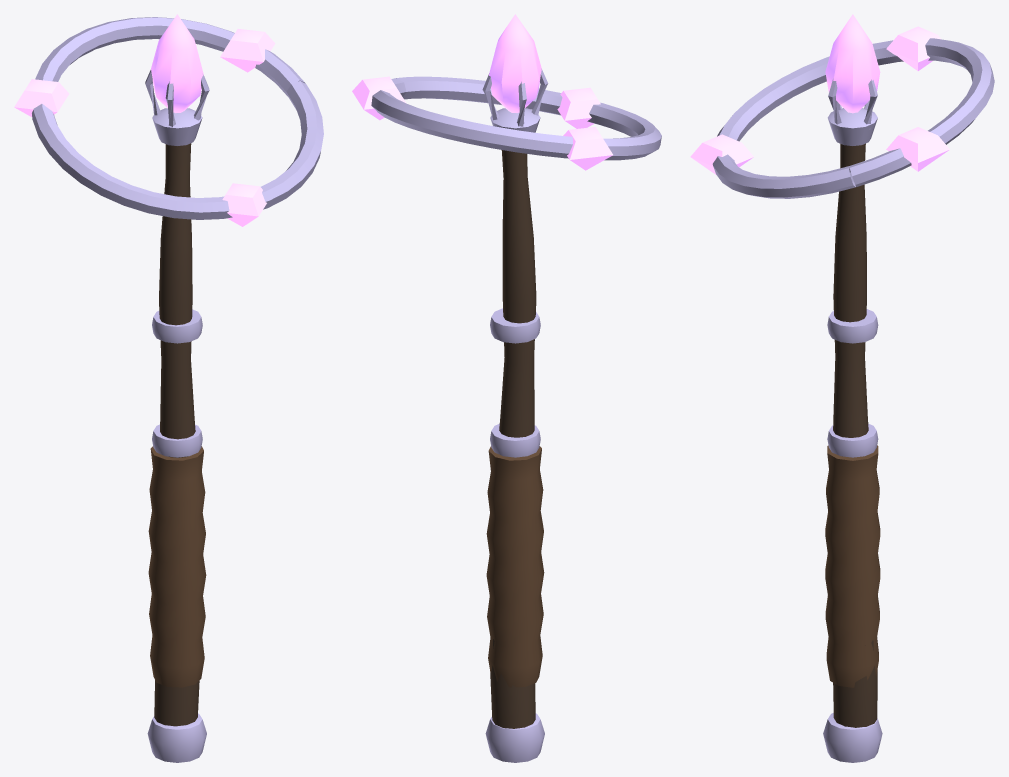
File: asc_voidweaver_weapon.glb
3 views of the same model, side by side, from view 1: azimuth 30°, elevation 25°; view 2: azimuth 150°, elevation 25°; view 3: azimuth 270°, elevation 25° (orthographic).
Visible parts, largest first — view 1: asc_voidweaver_weapon; view 2: asc_voidweaver_weapon; view 3: asc_voidweaver_weapon.
Part boxes in pixels (left/top/right/bottom): asc_voidweaver_weapon: left=14, top=14, right=323, bottom=762; asc_voidweaver_weapon: left=352, top=14, right=661, bottom=762; asc_voidweaver_weapon: left=690, top=14, right=994, bottom=762.
Size of the model in its own units: 0.1319 by 0.36 by 0.1331.
